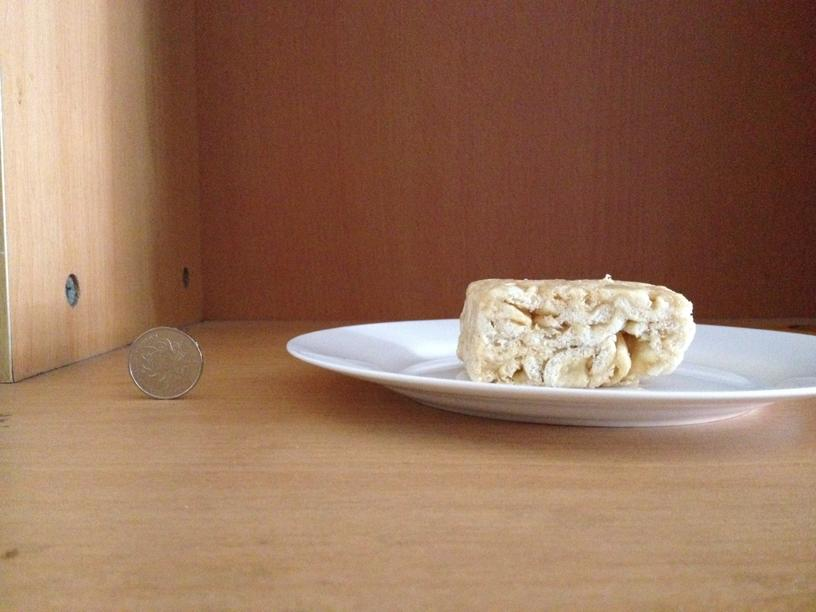coin: (129, 327, 202, 397)
sachima: (458, 275, 695, 390)
